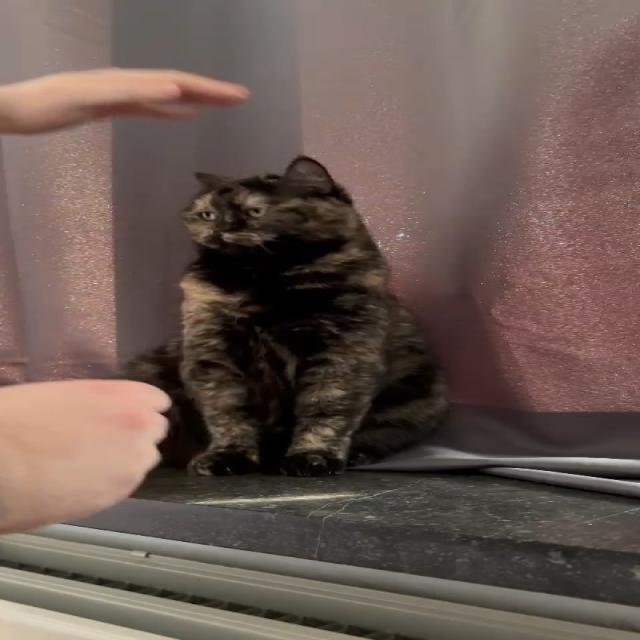authorized: (118, 154, 450, 477)
